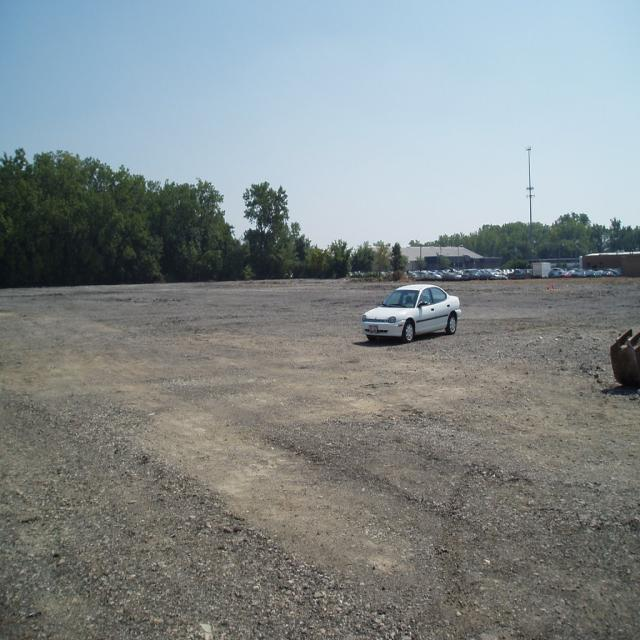car: (360, 283, 459, 344)
